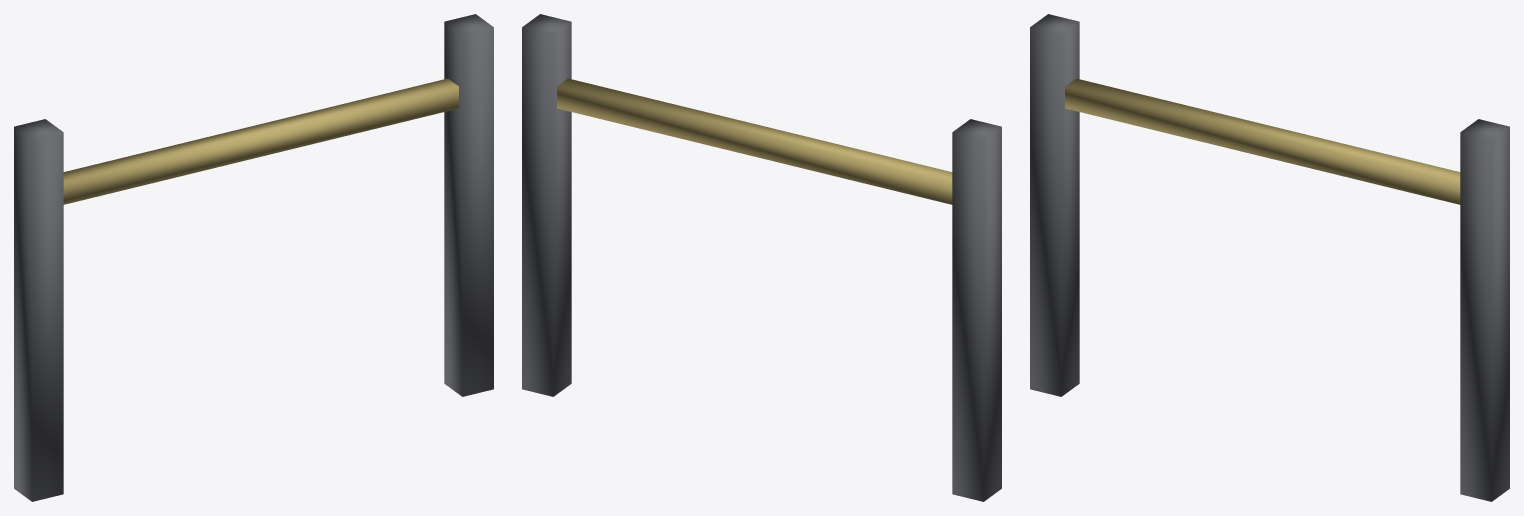
File: queue_gate_07.glb
The picture shows the model from 3 angles, left to right: view 1: azimuth 30°, elevation 25°; view 2: azimuth 150°, elevation 25°; view 3: azimuth 330°, elevation 25°; orthographic projection.
Parts seen in each view (by area): view 1: world; view 2: world; view 3: world.
Part boxes in pixels (x1,y1,x2,y2): world: (14,14,493,501); world: (522,14,1001,501); world: (1030,14,1509,501).
Bounding box in the file's own units: 1.23 × 0.92 × 0.0832.
